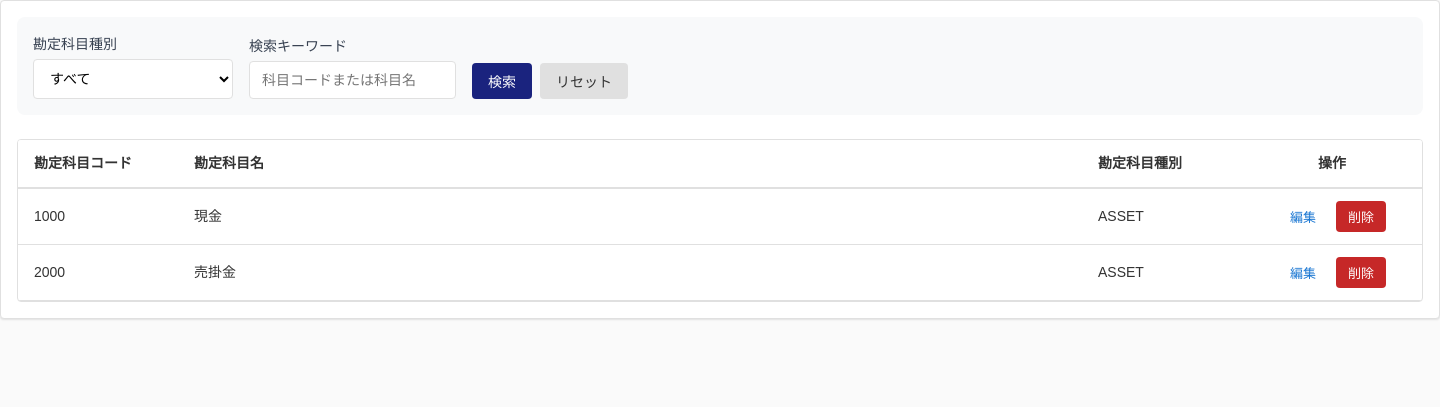
AccountList › 確認後に削除処理が実行される
Expected: the text "現金" is shown, top-left (178, 188), bottom-right (1082, 244)
Click the button "削除" in the row of "1000".
click(1361, 216)  # box top-left (1336, 201), bottom-right (1386, 232)
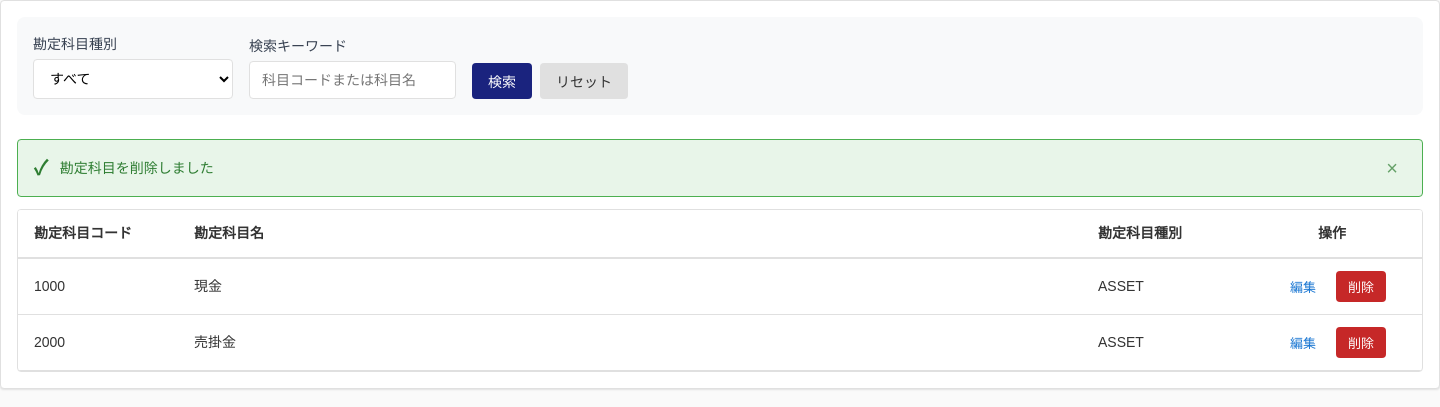
Expected: the text "勘定科目を削除しました" is shown, top-left (60, 160), bottom-right (214, 176)
